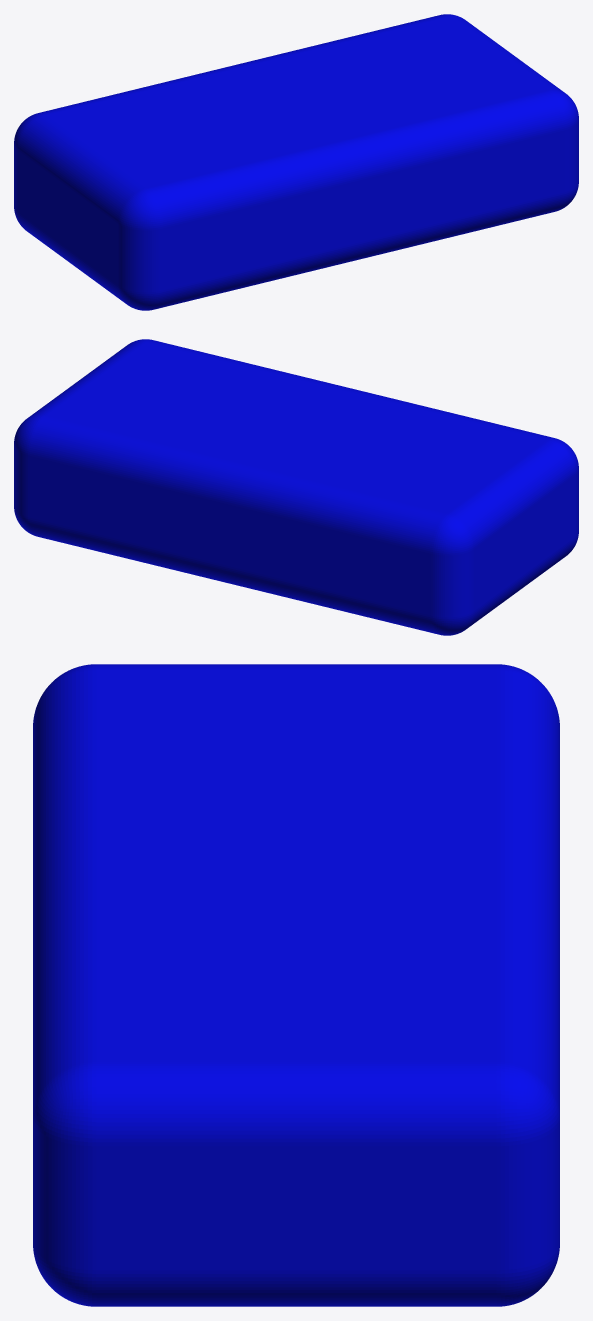
Rendered from BlockIbory.fbx.
The picture shows the model from 3 angles, top to bottom: view 1: azimuth 30°, elevation 25°; view 2: azimuth 150°, elevation 25°; view 3: azimuth 270°, elevation 25°; orthographic projection. The views are drawn at different scales.
Visible parts, largest first — view 1: Cube.006; view 2: Cube.006; view 3: Cube.006.
Boxes of the visible parts, x1,y1,x2,y2 form: Cube.006: (14,14,578,310); Cube.006: (14,339,578,635); Cube.006: (33,664,559,1306).
Size of the model in its own units: 4 by 1 by 2.
